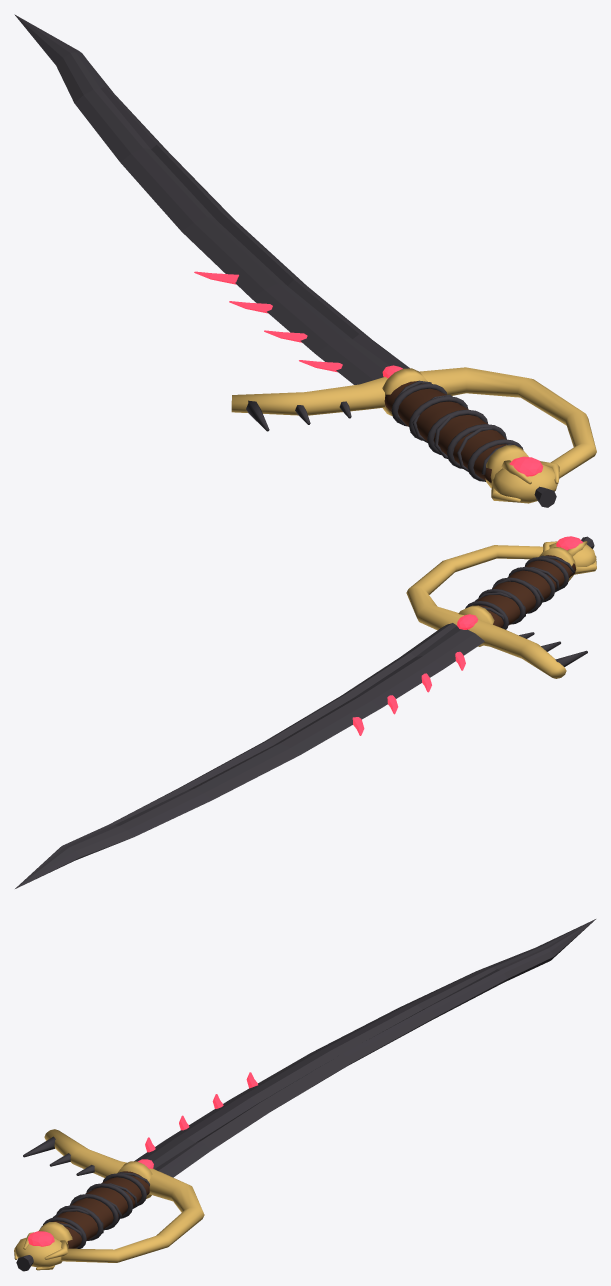
File: SWORD_CRIMSON.glb
3 views of the same model, one above another, from view 1: azimuth 30°, elevation 25°; view 2: azimuth 150°, elevation 25°; view 3: azimuth 330°, elevation 25° (orthographic). The views are drawn at different scales.
Visible parts, largest first — view 1: SaberBlade, BatKnuckleBow, Grip, PommelDisc, GripWireWrap, GripFerrule_1, GripFerrule_0; view 2: SaberBlade, BatKnuckleBow, Grip, GripWireWrap; view 3: SaberBlade, BatKnuckleBow, Grip, PommelDisc, GripWireWrap.
Boxes of the visible parts, x1,y1,x2,y2 form: SaberBlade: [14, 14, 409, 384]; BatKnuckleBow: [231, 367, 596, 478]; Grip: [384, 381, 506, 482]; PommelDisc: [492, 464, 559, 503]; GripWireWrap: [394, 380, 520, 474]; GripFerrule_1: [485, 445, 528, 488]; GripFerrule_0: [382, 368, 427, 416]; SaberBlade: [15, 623, 484, 888]; BatKnuckleBow: [406, 545, 566, 678]; Grip: [477, 555, 576, 627]; GripWireWrap: [474, 555, 574, 621]; SaberBlade: [134, 919, 595, 1177]; BatKnuckleBow: [44, 1129, 204, 1262]; Grip: [52, 1171, 149, 1248]; PommelDisc: [14, 1237, 62, 1267]; GripWireWrap: [40, 1172, 149, 1236].
Bounding box in the file's own units: 0.2065 × 0.037 × 0.875.
